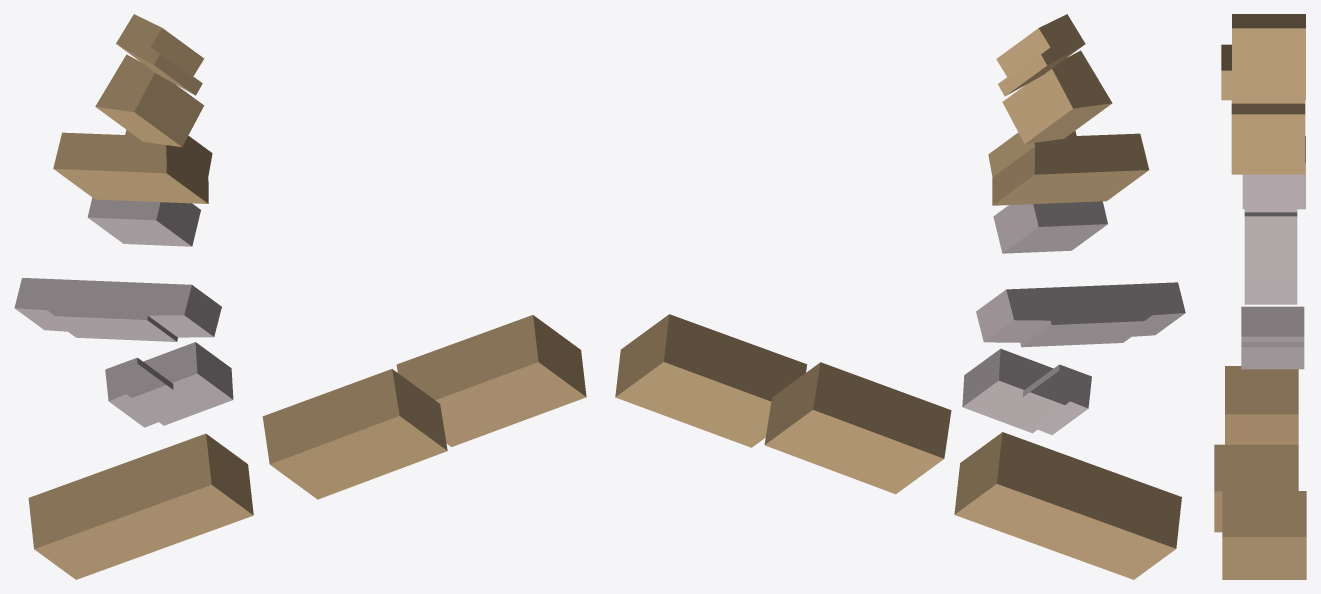
3 views of the same model, side by side, from view 1: azimuth 30°, elevation 25°; view 2: azimuth 150°, elevation 25°; view 3: azimuth 270°, elevation 25° (orthographic). The views are drawn at different scales.
Parts seen in each view (by area): view 1: 0_3_0_1_1_1_3; view 2: 0_3_0_1_1_1_3; view 3: 0_3_0_1_1_1_3.
Part boxes in pixels (<box>): 0_3_0_1_1_1_3: <box>14,14,586,579</box>; 0_3_0_1_1_1_3: <box>615,14,1185,579</box>; 0_3_0_1_1_1_3: <box>1214,14,1306,579</box>.
Bounding box in the file's own units: 153 × 140 × 26.2.
